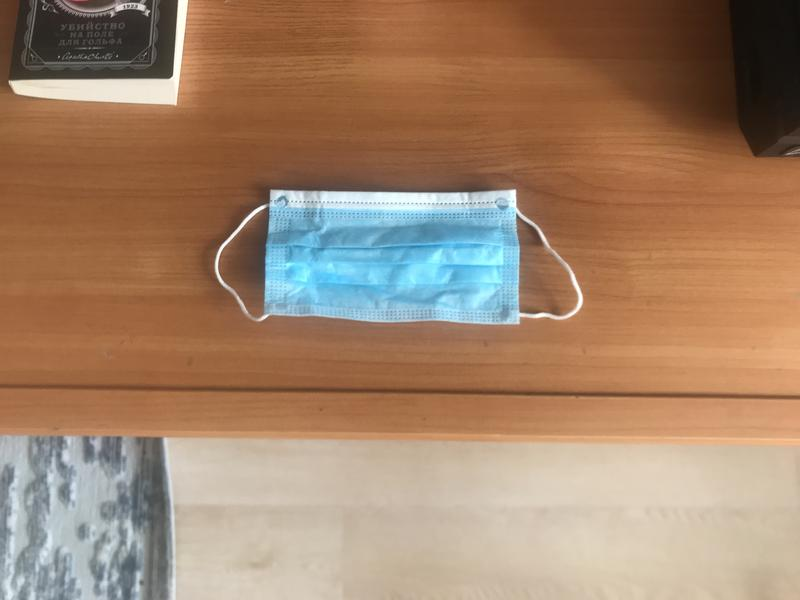medical_mask: (218, 182, 583, 327)
